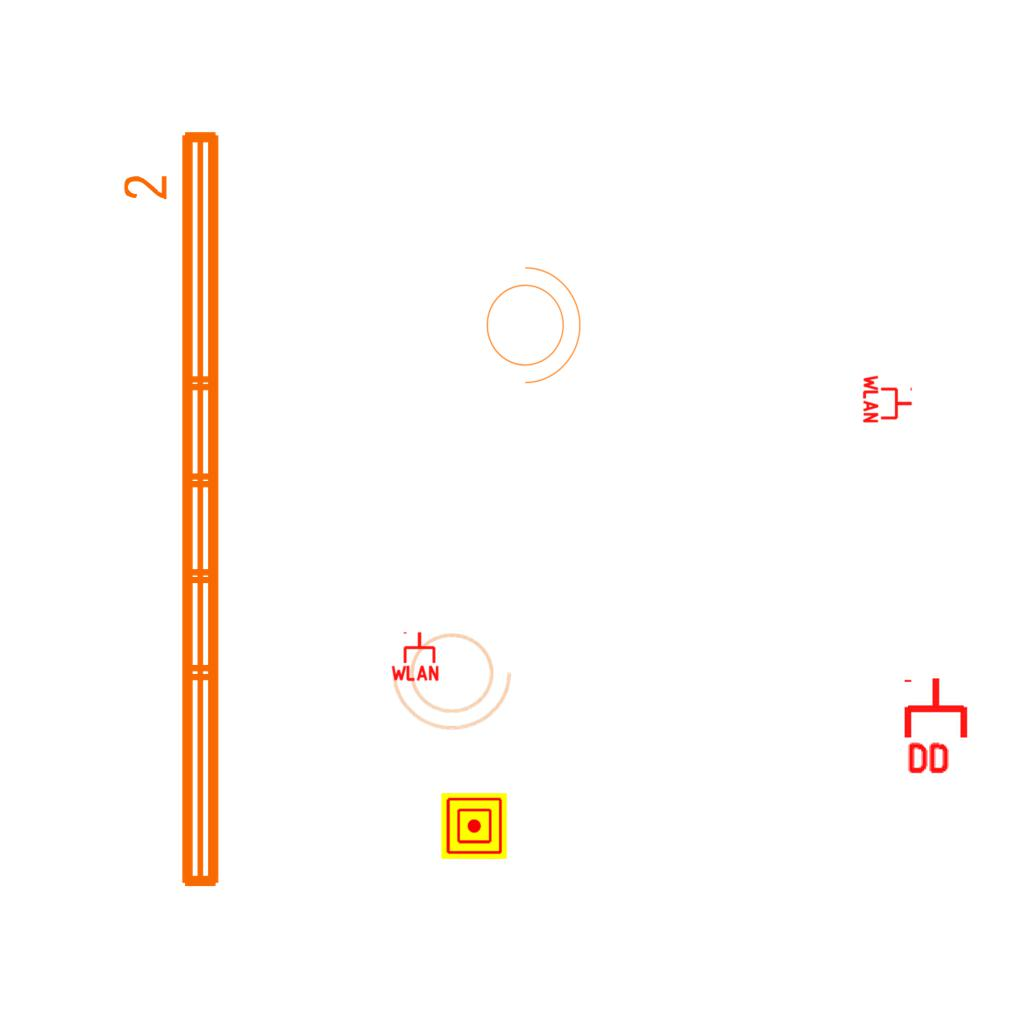Ambulanz_Pendelleuchte_LED: (119, 123, 231, 897)
Datenanschluss_zweifach: (903, 675, 972, 778)
NAM-Nichtautomatischer_Melder: (441, 793, 507, 859)
Scheinwerfer_fuer_Alarmbeleuchtung: (474, 256, 586, 388), (389, 622, 521, 734)
WLAN: (862, 373, 914, 425), (389, 630, 441, 682)
